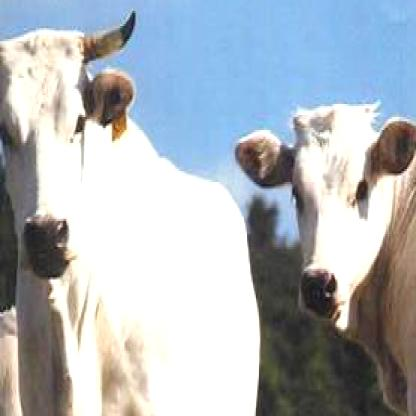cow: (0, 8, 264, 414), (235, 102, 414, 414)
